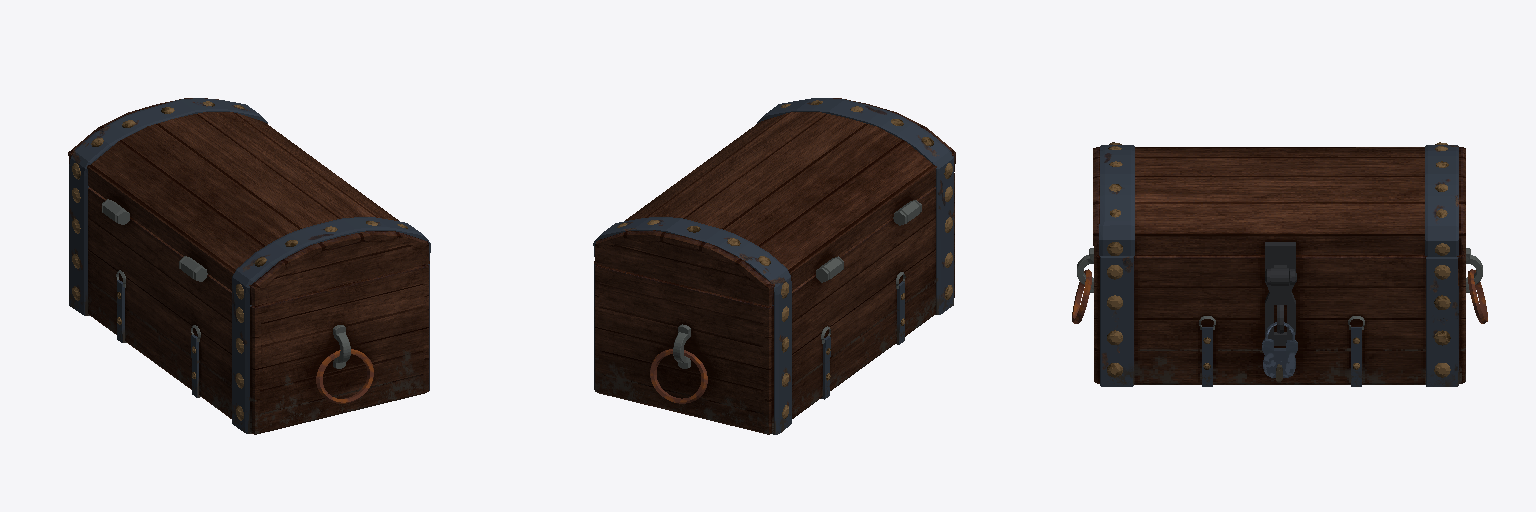
3 views of the same model, side by side, from view 1: azimuth 30°, elevation 25°; view 2: azimuth 150°, elevation 25°; view 3: azimuth 270°, elevation 25° (orthographic).
Visible parts, largest first — view 1: obj1, obj2, obj13, obj12, obj9, obj10; view 2: obj1, obj2, obj13, obj12, obj9, obj10, obj3; view 3: obj1, obj2, obj13, obj5, obj9, obj10, obj7, obj3, obj4.
Part boxes in pixels (x1,y1,x2,y2): obj1: (68, 98, 429, 434); obj2: (69, 98, 430, 433); obj13: (72, 101, 407, 420); obj12: (102, 199, 207, 281); obj9: (316, 349, 373, 403); obj10: (117, 280, 200, 397); obj1: (594, 98, 955, 434); obj2: (593, 98, 953, 434); obj13: (617, 100, 952, 418); obj12: (816, 200, 921, 282); obj9: (650, 349, 707, 403); obj10: (821, 281, 904, 399); obj3: (673, 324, 690, 368); obj1: (1093, 147, 1465, 384); obj2: (1099, 145, 1458, 386); obj13: (1107, 142, 1450, 377); obj5: (1265, 242, 1295, 345); obj9: (1072, 269, 1487, 323); obj10: (1202, 327, 1361, 386); obj7: (1262, 339, 1297, 381); obj3: (1077, 248, 1482, 292); obj4: (1265, 265, 1296, 285).
Bounding box in the file's own units: 3.97 × 3.17 × 6.65.
1 materials, 1 textured.